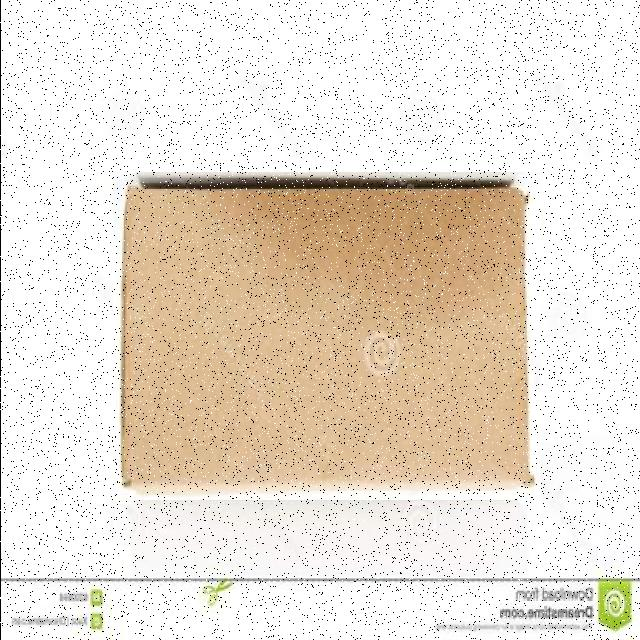normal: (112, 172, 540, 500)
